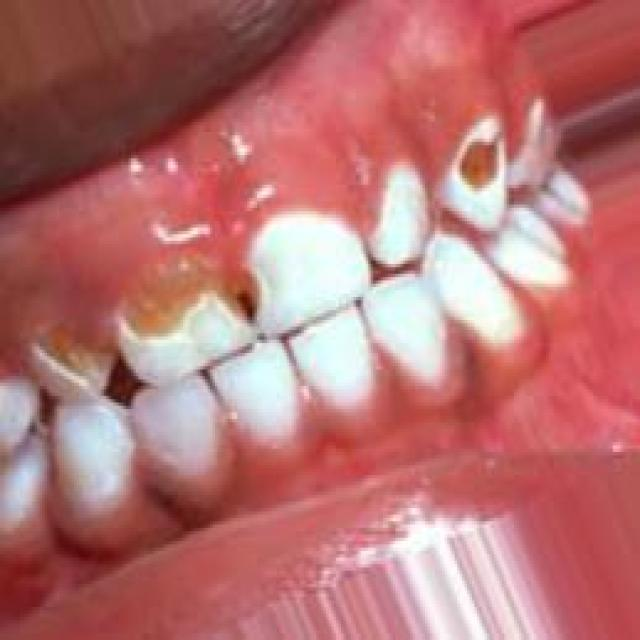caries: (115, 256, 225, 350), (26, 326, 114, 405), (449, 114, 514, 209), (217, 256, 273, 335)
